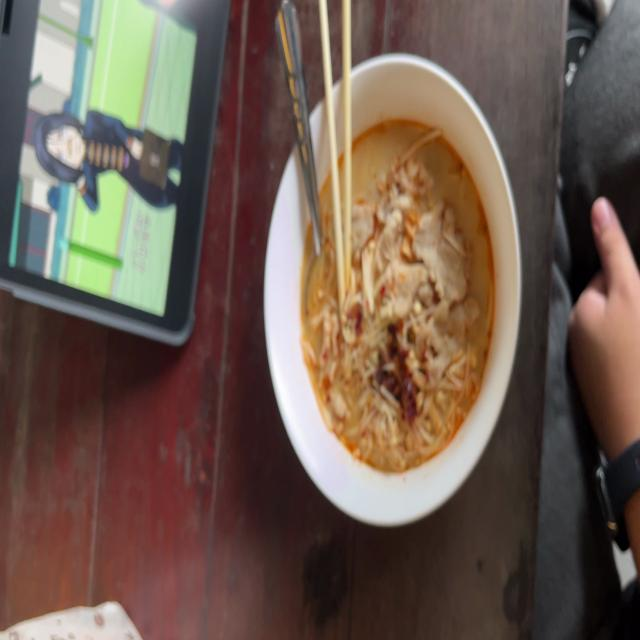noodle: (295, 114, 503, 482)
